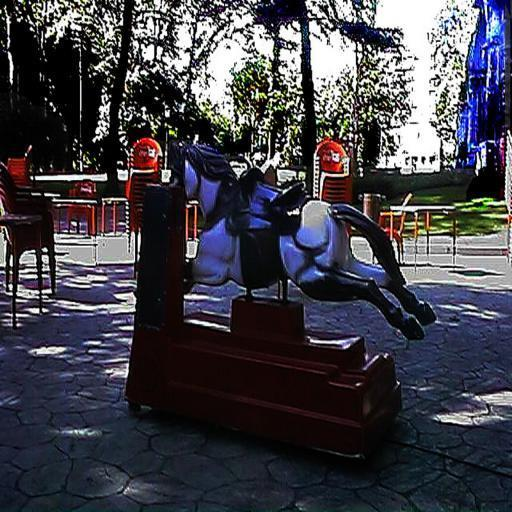horse: (185, 142, 440, 342)
